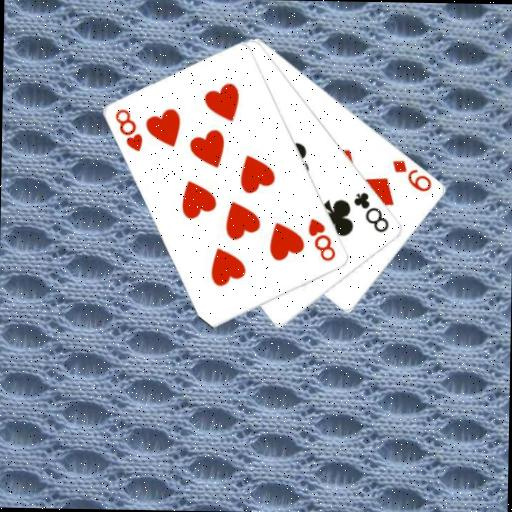8C: (351, 189, 392, 235)
8H: (111, 106, 145, 154), (306, 215, 339, 263)
9D: (390, 157, 435, 194)
